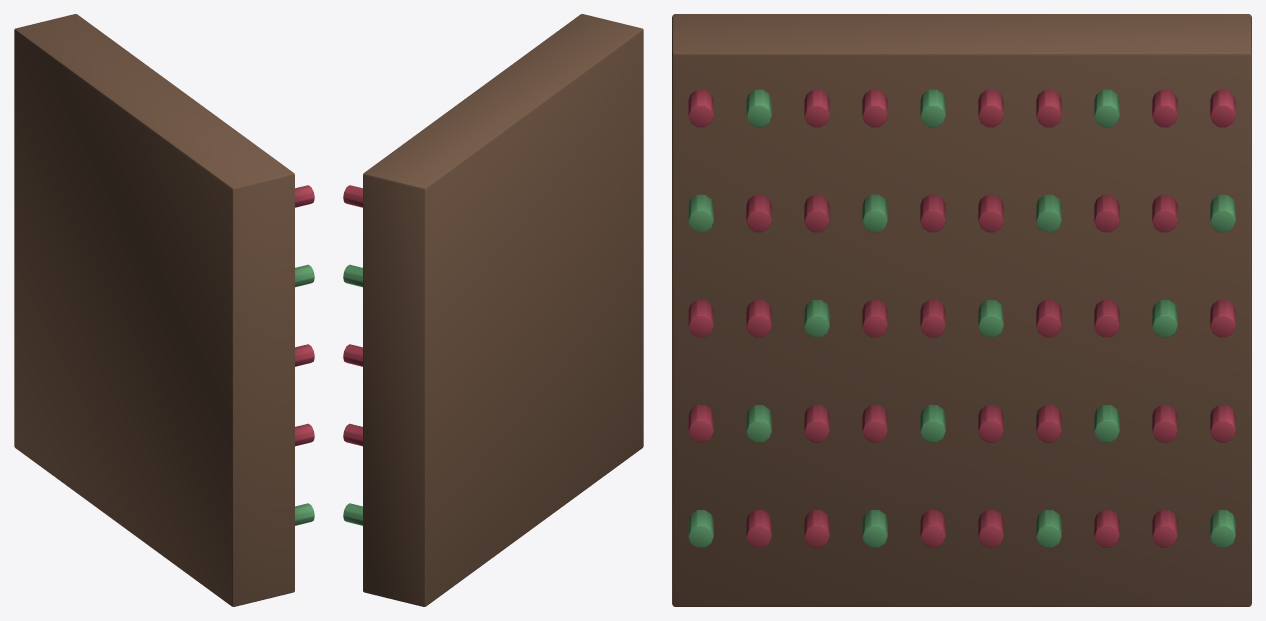
Rendered from winerack.glb.
3 views of the same model, side by side, from view 1: azimuth 30°, elevation 25°; view 2: azimuth 150°, elevation 25°; view 3: azimuth 270°, elevation 25° (orthographic). The views are drawn at different scales.
Visible parts, largest first — view 1: boat_darkwood, boat_glassr, boat_glassg; view 2: boat_darkwood, boat_glassr, boat_glassg; view 3: boat_darkwood, boat_glassr, boat_glassg.
Boxes of the visible parts, x1,y1,x2,y2 form: boat_darkwood: (14,14,294,606); boat_glassr: (295,185,314,446); boat_glassg: (295,264,314,525); boat_darkwood: (363,14,643,606); boat_glassr: (343,185,362,446); boat_glassg: (343,264,362,525); boat_darkwood: (672,14,1251,606); boat_glassr: (688,89,1235,547); boat_glassg: (688,89,1235,547).
Bounding box in the file's own units: 0.42 × 1.9 × 1.8.
